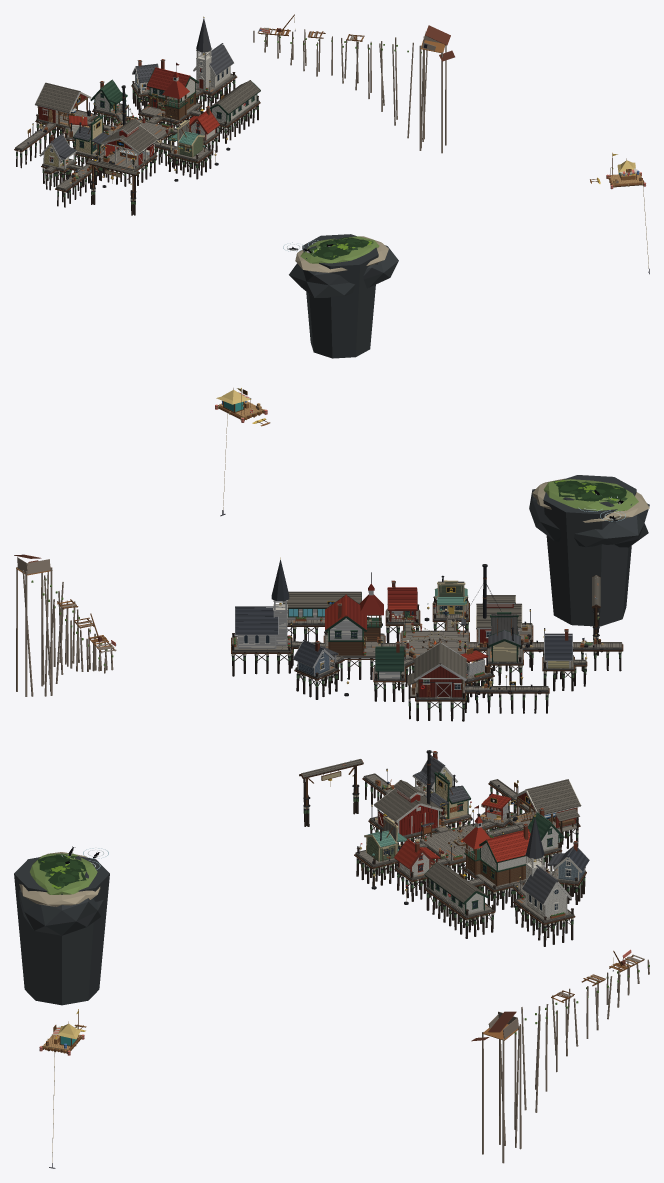
Rendered from chunk_0_1.glb.
3 renders of one model, top to bottom at view 1: azimuth 30°, elevation 25°; view 2: azimuth 150°, elevation 25°; view 3: azimuth 270°, elevation 25°, orthographic. The views are drawn at different scales.
Parts seen in each view (by area): view 1: chunk_0_1; view 2: chunk_0_1; view 3: chunk_0_1.
Part boxes in pixels (x1,y1,x2,y2): chunk_0_1: (14,14,649,358); chunk_0_1: (14,388,649,721); chunk_0_1: (14,750,649,1168).
Size of the model in its own units: 121 by 43.95 by 119.
